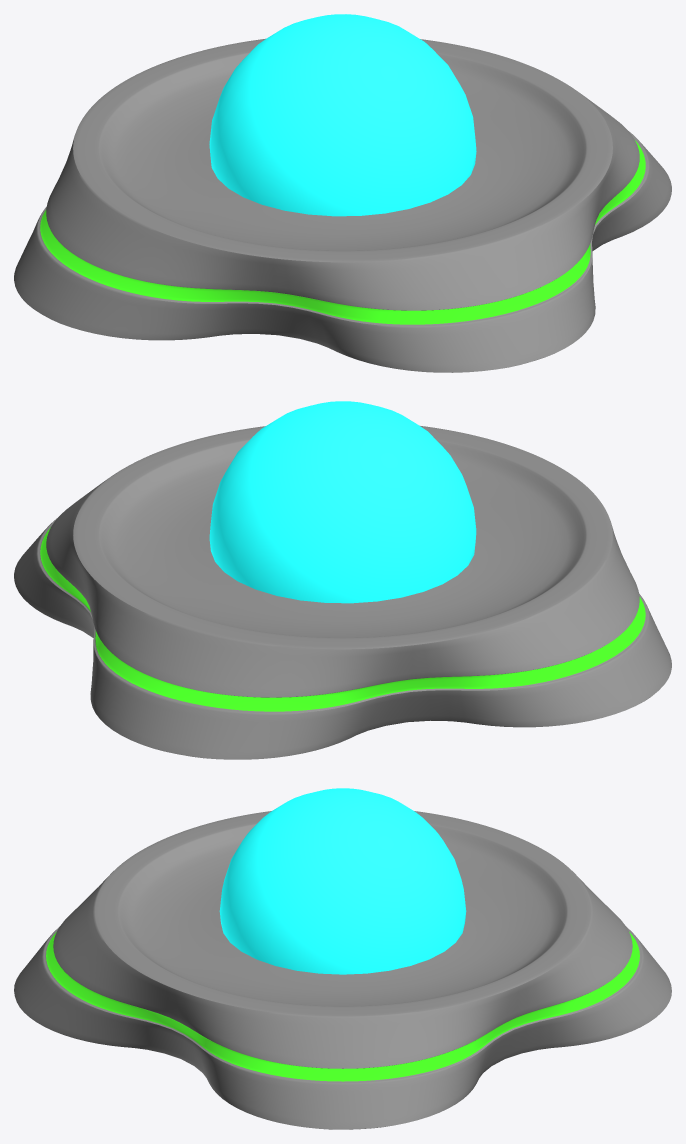
Rendered from Rotator.fbx.
3 views of the same model, one above another, from view 1: azimuth 30°, elevation 25°; view 2: azimuth 150°, elevation 25°; view 3: azimuth 270°, elevation 25° (orthographic). The views are drawn at different scales.
Parts seen in each view (by area): view 1: Anchor.function.rotate, Anchor.function.rotate.catalyst; view 2: Anchor.function.rotate, Anchor.function.rotate.catalyst; view 3: Anchor.function.rotate, Anchor.function.rotate.catalyst.
Part boxes in pixels (bbox=[...]): Anchor.function.rotate: bbox=[14, 38, 671, 372]; Anchor.function.rotate.catalyst: bbox=[209, 14, 476, 216]; Anchor.function.rotate: bbox=[14, 426, 671, 759]; Anchor.function.rotate.catalyst: bbox=[209, 401, 476, 603]; Anchor.function.rotate: bbox=[14, 811, 671, 1129]; Anchor.function.rotate.catalyst: bbox=[219, 788, 466, 974].
Size of the model in its own units: 160 by 160 by 60.
